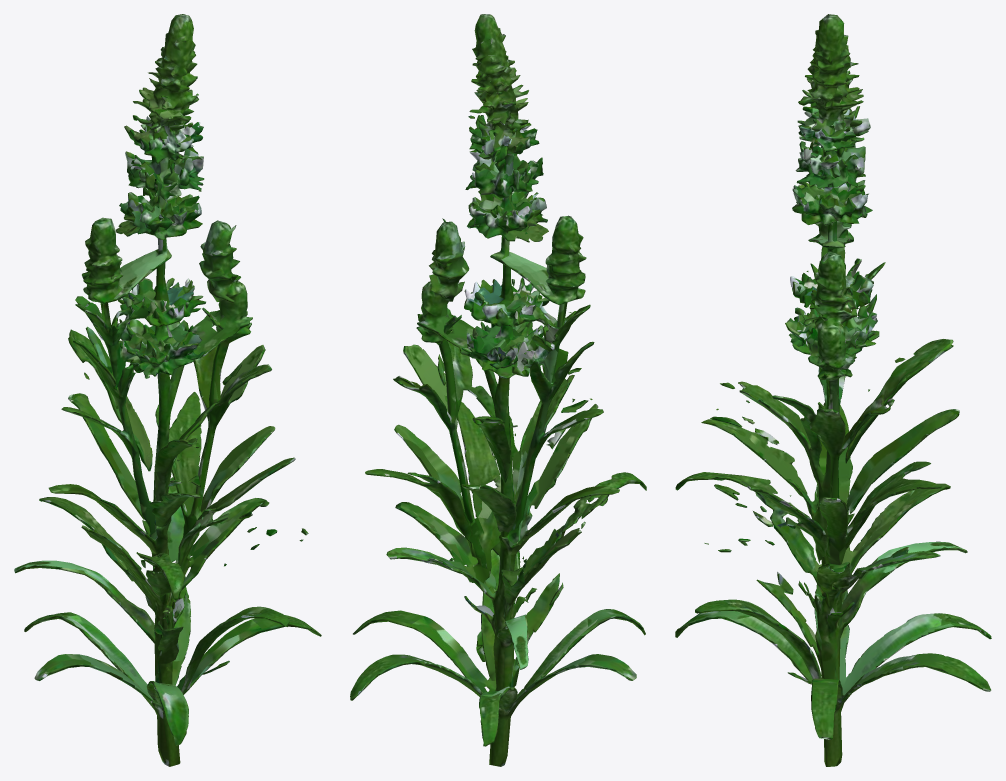
Rendered from g-flowering-herb.glb.
The picture shows the model from 3 angles, left to right: view 1: azimuth 30°, elevation 25°; view 2: azimuth 150°, elevation 25°; view 3: azimuth 270°, elevation 25°; orthographic projection.
Parts seen in each view (by area): view 1: world; view 2: world; view 3: world.
Boxes of the visible parts, <box> form: world: <box>14,14,321,766</box>; world: <box>350,14,646,766</box>; world: <box>675,14,991,766</box>.
Size of the model in its own units: 0.7843 by 1.99 by 0.7566.
Materials: 1 (1 with a texture image).
